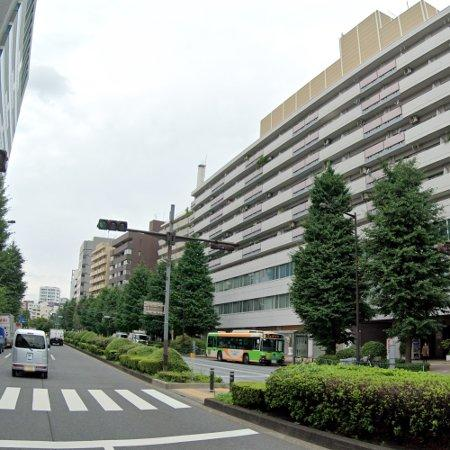crosswalks: (0, 385, 196, 412)
